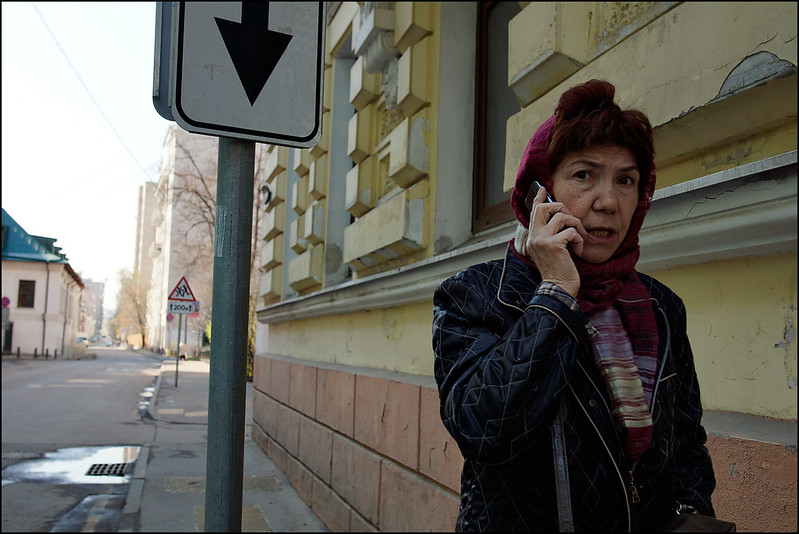phone: (515, 173, 578, 263)
talk: (510, 153, 647, 278)
